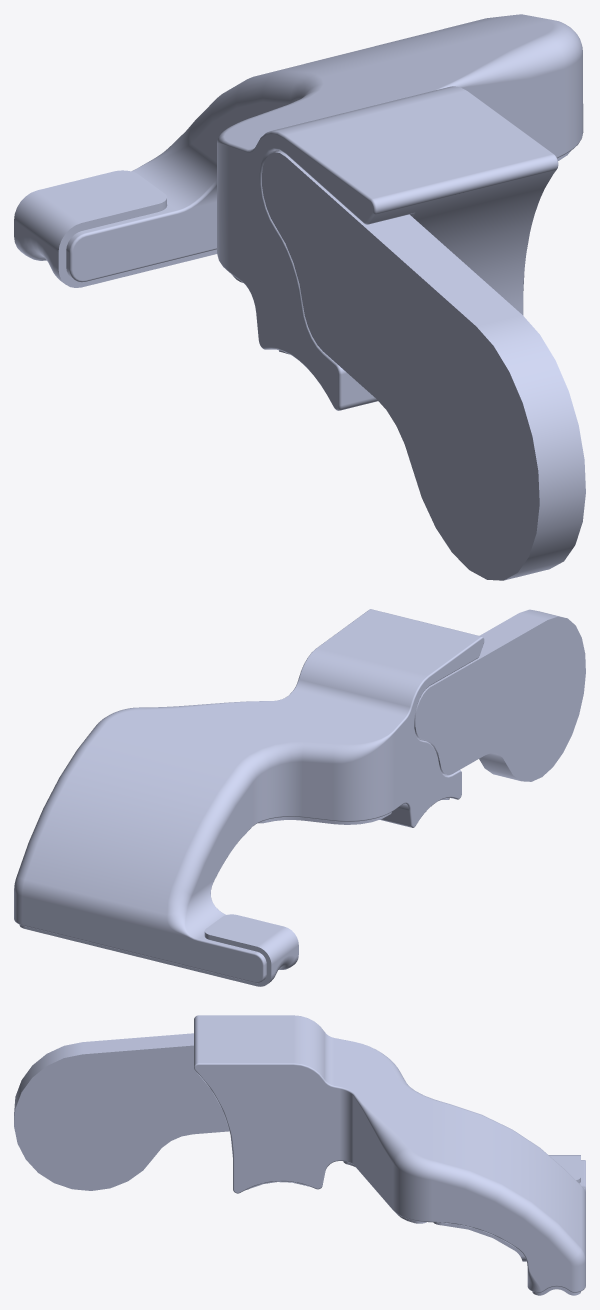
File: finger_left.obj
3 renders of one model, top to bottom at view 1: azimuth 30°, elevation 25°; view 2: azimuth 150°, elevation 25°; view 3: azimuth 270°, elevation 25°, orthographic. The views are drawn at different scales.
Parts seen in each view (by area): view 1: Body22; view 2: Body22; view 3: Body22.
Part boxes in pixels (box(x1,y1,x2,y2)): Body22: box(14, 14, 585, 580); Body22: box(14, 609, 585, 986); Body22: box(14, 1015, 585, 1295).
Bounding box in the file's own units: 0.055 × 0.0392 × 0.1175.
